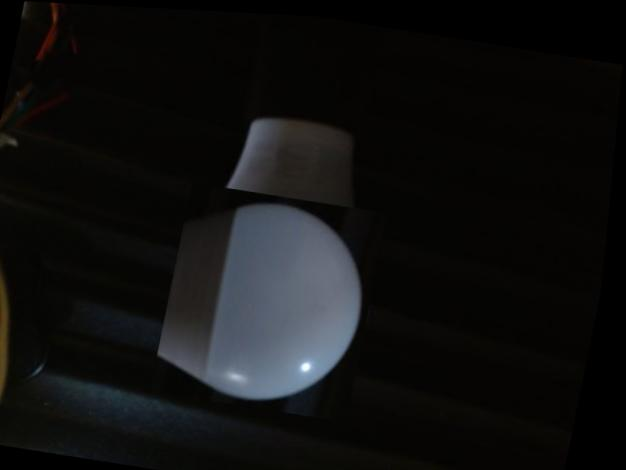Fan: (153, 180, 395, 415)
